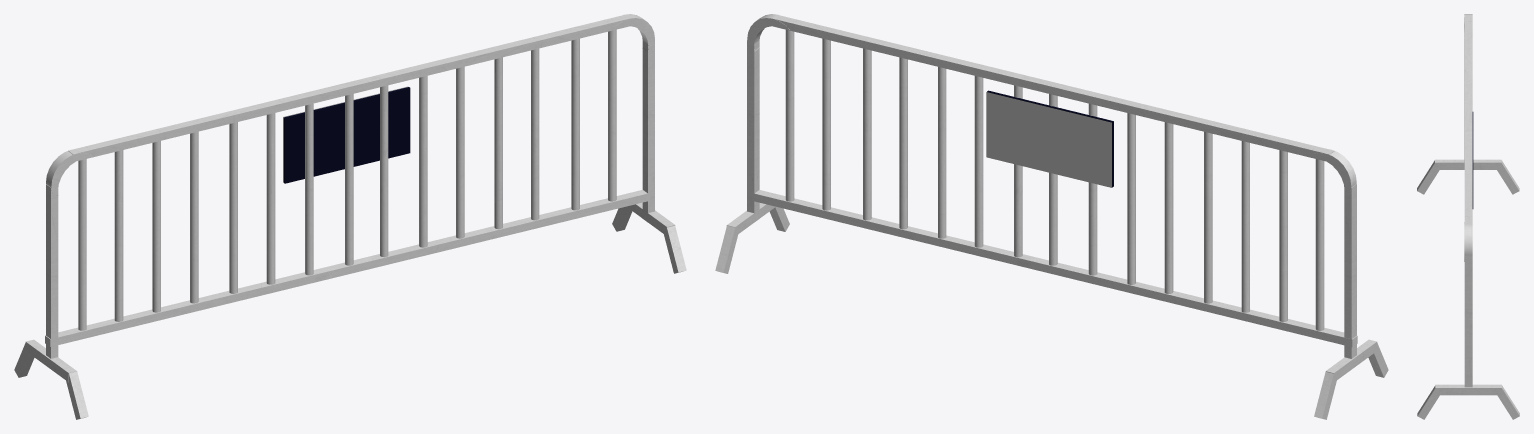
File: banister.obj
3 renders of one model, left to right at view 1: azimuth 30°, elevation 25°; view 2: azimuth 150°, elevation 25°; view 3: azimuth 270°, elevation 25°, orthographic. The views are drawn at different scales.
Visible parts, largest first — view 1: banister; view 2: banister; view 3: banister.
Part boxes in pixels (left/top/right/bottom): banister: left=14, top=14, right=686, bottom=419; banister: left=715, top=14, right=1388, bottom=419; banister: left=1417, top=14, right=1519, bottom=419.
Size of the model in its own units: 10.85 by 4.11 by 2.06.
